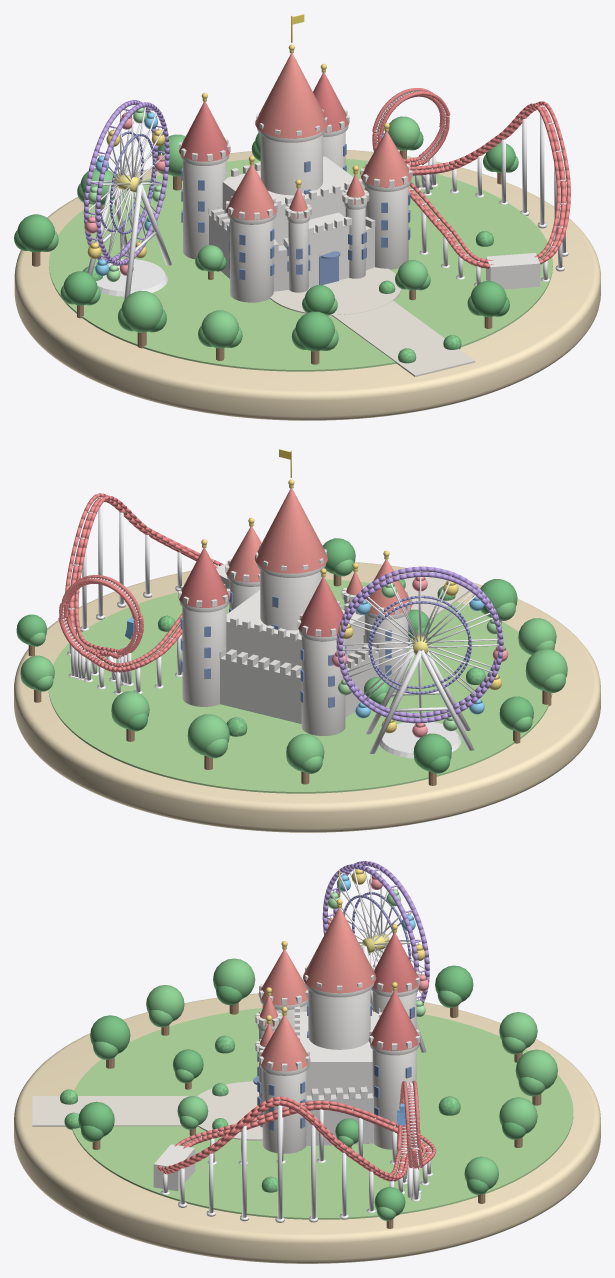
File: osiria.glb
3 renders of one model, top to bottom at view 1: azimuth 30°, elevation 25°; view 2: azimuth 150°, elevation 25°; view 3: azimuth 270°, elevation 25°, orthographic.
Visible parts, largest first — view 1: OS_Base, OS_Castle, OS_Lawn, OS_Trees, OS_Coaster, OS_Ferris, OS_Path, OS_Plaza; view 2: OS_Lawn, OS_Base, OS_Castle, OS_Trees, OS_Ferris, OS_Coaster, OS_Path; view 3: OS_Lawn, OS_Base, OS_Castle, OS_Trees, OS_Coaster, OS_Ferris, OS_Path, OS_Plaza.
Boxes of the visible parts, x1,y1,x2,y2 form: OS_Base: (14, 150, 600, 420); OS_Castle: (179, 14, 412, 302); OS_Lawn: (49, 158, 552, 371); OS_Trees: (14, 116, 518, 364); OS_Coaster: (360, 88, 570, 289); OS_Ferris: (83, 100, 171, 300); OS_Path: (332, 300, 475, 376); OS_Plaza: (270, 267, 401, 315); OS_Lawn: (48, 579, 552, 793); OS_Base: (14, 562, 600, 832); OS_Castle: (178, 449, 412, 735); OS_Trees: (16, 538, 567, 785); OS_Ferris: (332, 566, 508, 758); OS_Coaster: (58, 493, 229, 695); OS_Path: (404, 571, 469, 619); OS_Lawn: (72, 1005, 573, 1219); OS_Base: (14, 993, 600, 1263); OS_Castle: (253, 870, 420, 1153); OS_Trees: (60, 958, 557, 1228); OS_Coaster: (153, 1080, 436, 1222); OS_Ferris: (322, 861, 429, 1052); OS_Path: (32, 1096, 196, 1126); OS_Plaza: (197, 1081, 262, 1140).
Bounding box in the file's own units: 6.4 × 3.27 × 6.4.
